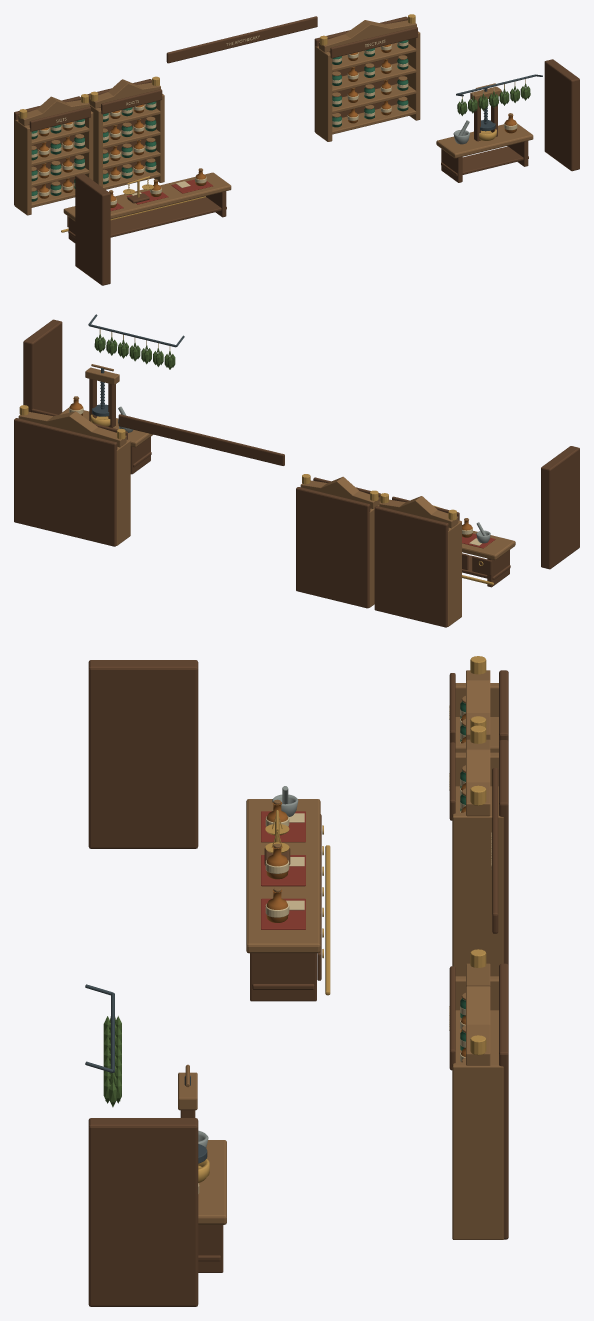
Rendered from apothecary.glb.
3 renders of one model, top to bottom at view 1: azimuth 30°, elevation 25°; view 2: azimuth 150°, elevation 25°; view 3: azimuth 270°, elevation 25°, orthographic. The views are drawn at different scales.
Visible parts, largest first — view 1: Crafted assembly 001, Crafted assembly 007, Crafted assembly 000, Crafted assembly 006, Crafted assembly 014, Crafted assembly 004, Crafted assembly 003, Crafted assembly 005, Crafted assembly 010, Crafted assembly 009, Crafted assembly 021, Crafted assembly 002 (+3 smaller); view 2: Crafted assembly 000, Crafted assembly 006, Crafted assembly 001, Crafted assembly 007, Crafted assembly 014, Crafted assembly 021, Crafted assembly 016, Crafted assembly 002; view 3: Crafted assembly 000, Crafted assembly 014, Crafted assembly 001, Crafted assembly 007, Crafted assembly 006, Crafted assembly 002, Crafted assembly 012, Crafted assembly 004, Crafted assembly 005, Crafted assembly 021, Crafted assembly 008.
Boxes of the visible parts, bbox=[...] form: Crafted assembly 001: bbox=[14, 79, 231, 220]; Crafted assembly 007: bbox=[315, 20, 533, 158]; Crafted assembly 000: bbox=[14, 79, 226, 285]; Crafted assembly 006: bbox=[166, 16, 528, 182]; Crafted assembly 014: bbox=[507, 59, 579, 171]; Crafted assembly 004: bbox=[31, 100, 206, 205]; Crafted assembly 003: bbox=[31, 101, 156, 201]; Crafted assembly 005: bbox=[39, 104, 206, 207]; Crafted assembly 010: bbox=[226, 35, 515, 124]; Crafted assembly 009: bbox=[332, 40, 408, 127]; Crafted assembly 021: bbox=[457, 86, 519, 115]; Crafted assembly 002: bbox=[19, 76, 205, 232]; Crafted assembly 000: bbox=[296, 446, 579, 627]; Crafted assembly 006: bbox=[14, 379, 284, 546]; Crafted assembly 001: bbox=[300, 476, 515, 626]; Crafted assembly 007: bbox=[18, 364, 152, 545]; Crafted assembly 014: bbox=[23, 319, 62, 414]; Crafted assembly 021: bbox=[106, 337, 175, 369]; Crafted assembly 016: bbox=[88, 324, 184, 416]; Crafted assembly 002: bbox=[302, 474, 493, 585]; Crafted assembly 000: bbox=[88, 660, 508, 1001]; Crafted assembly 014: bbox=[88, 1118, 223, 1306]; Crafted assembly 001: bbox=[246, 670, 503, 976]; Crafted assembly 007: bbox=[178, 963, 503, 1239]; Crafted assembly 006: bbox=[180, 768, 508, 1261]; Crafted assembly 002: bbox=[265, 656, 486, 995]; Crafted assembly 012: bbox=[261, 811, 305, 929]; Crafted assembly 004: bbox=[265, 705, 465, 917]; Crafted assembly 005: bbox=[266, 713, 465, 922]; Crafted assembly 021: bbox=[103, 1016, 121, 1084]; Crafted assembly 008: bbox=[198, 949, 486, 1182].
Size of what is drawn, in the model's own units: 18.14 by 4.29 by 6.96.
